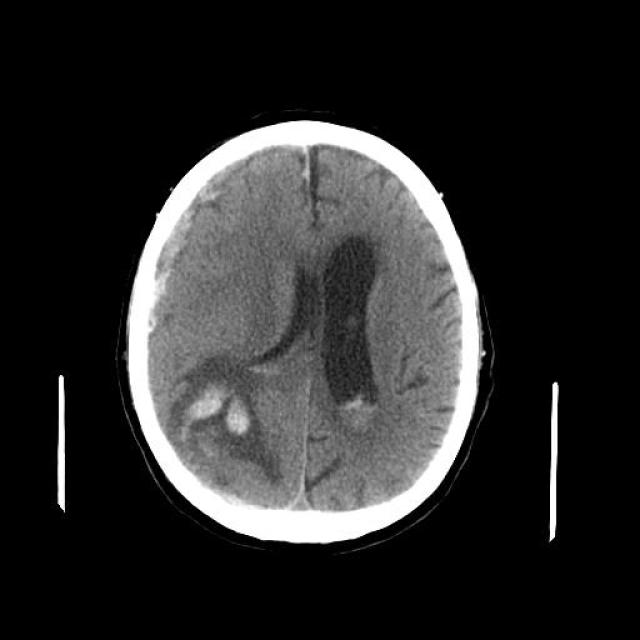Intraparenchymal: (166, 367, 274, 445)
Intraventricular: (285, 359, 385, 469)
Subdural: (122, 150, 278, 331)
